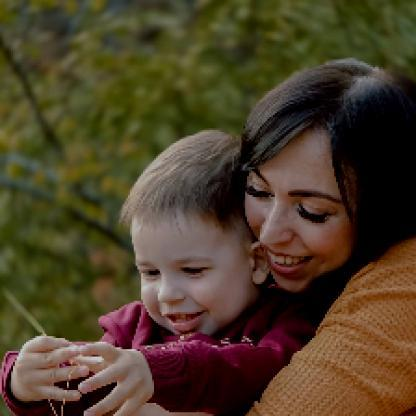child: (1, 127, 321, 416)
